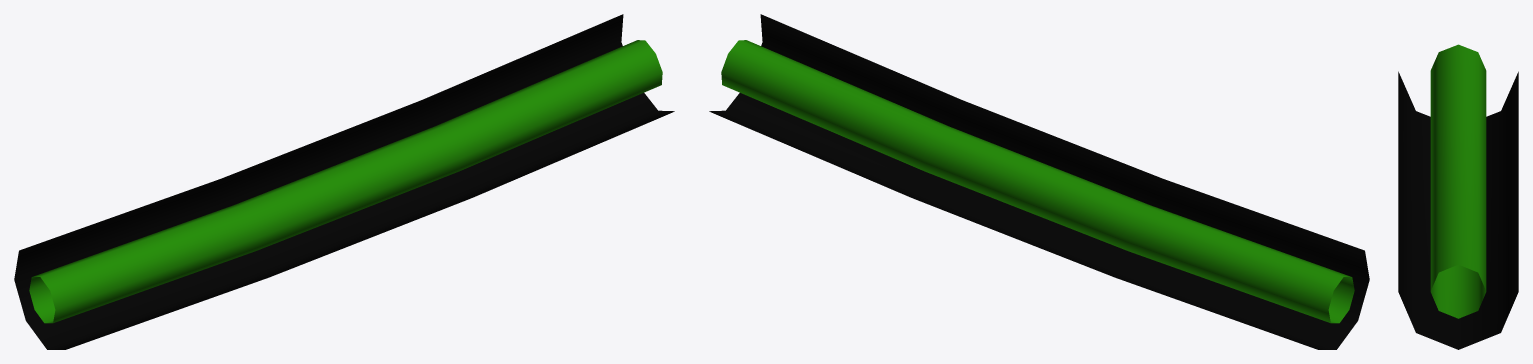
The model's file is TrozoCable3.glb.
The picture shows the model from 3 angles, left to right: view 1: azimuth 30°, elevation 25°; view 2: azimuth 150°, elevation 25°; view 3: azimuth 270°, elevation 25°; orthographic projection. The views are drawn at different scales.
Parts seen in each view (by area): view 1: Section3; view 2: Section3; view 3: Section3.
Boxes of the visible parts, x1,y1,x2,y2 form: Section3: (14, 14, 674, 349); Section3: (709, 14, 1369, 349); Section3: (1398, 44, 1518, 349).
Bounding box in the file's own units: 13.16 × 3.86 × 2.07.
